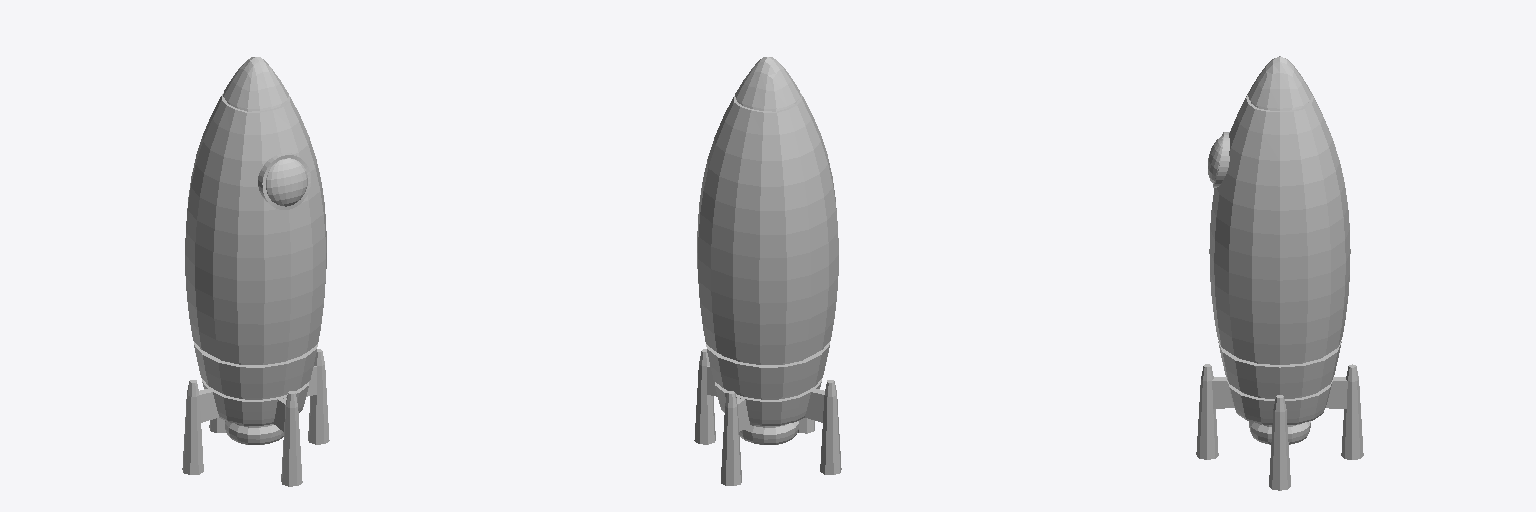
File: rocket.obj
The picture shows the model from 3 angles: view 1: azimuth 30°, elevation 25°; view 2: azimuth 150°, elevation 25°; view 3: azimuth 270°, elevation 25°; orthographic projection.
Visible parts, largest first — view 1: Fuselage, Fin.001, Fin.002, Window_glass, Fin, Window_rim; view 2: Fuselage, Fin.001, Fin.003, Fin; view 3: Fuselage, Fin.003, Fin.002, Fin.
Part boxes in pixels (x1,y1,x2,y2): Fuselage: (185, 57, 326, 444); Fin.001: (182, 380, 218, 474); Fin.002: (273, 391, 302, 486); Window_glass: (266, 158, 307, 206); Fin: (306, 349, 329, 444); Window_rim: (258, 153, 310, 209); Fuselage: (697, 57, 838, 444); Fin.001: (805, 380, 841, 474); Fin.003: (721, 391, 749, 485); Fin: (694, 349, 717, 444); Fuselage: (1209, 56, 1350, 444); Fin.003: (1326, 364, 1363, 459); Fin.002: (1196, 364, 1233, 459); Fin: (1269, 395, 1290, 490).
Size of the model in its own units: 2.54 by 6.68 by 2.54.